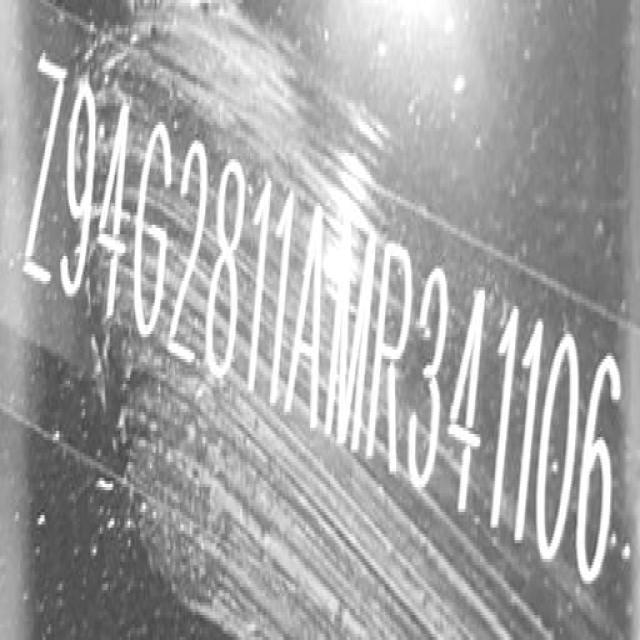0: (530, 310, 590, 588)
1: (486, 295, 523, 533), (516, 318, 544, 548), (248, 174, 272, 400)
2: (151, 116, 223, 376)
3: (404, 244, 459, 516)
4: (84, 78, 156, 331), (438, 268, 499, 538)
6: (572, 335, 632, 602)
8: (195, 136, 259, 395)
9: (45, 60, 111, 313)
A: (284, 204, 326, 434), (268, 176, 298, 409)
G: (125, 117, 177, 338)
M: (314, 219, 378, 467)
R: (362, 219, 424, 489)
Z: (10, 36, 80, 306)
